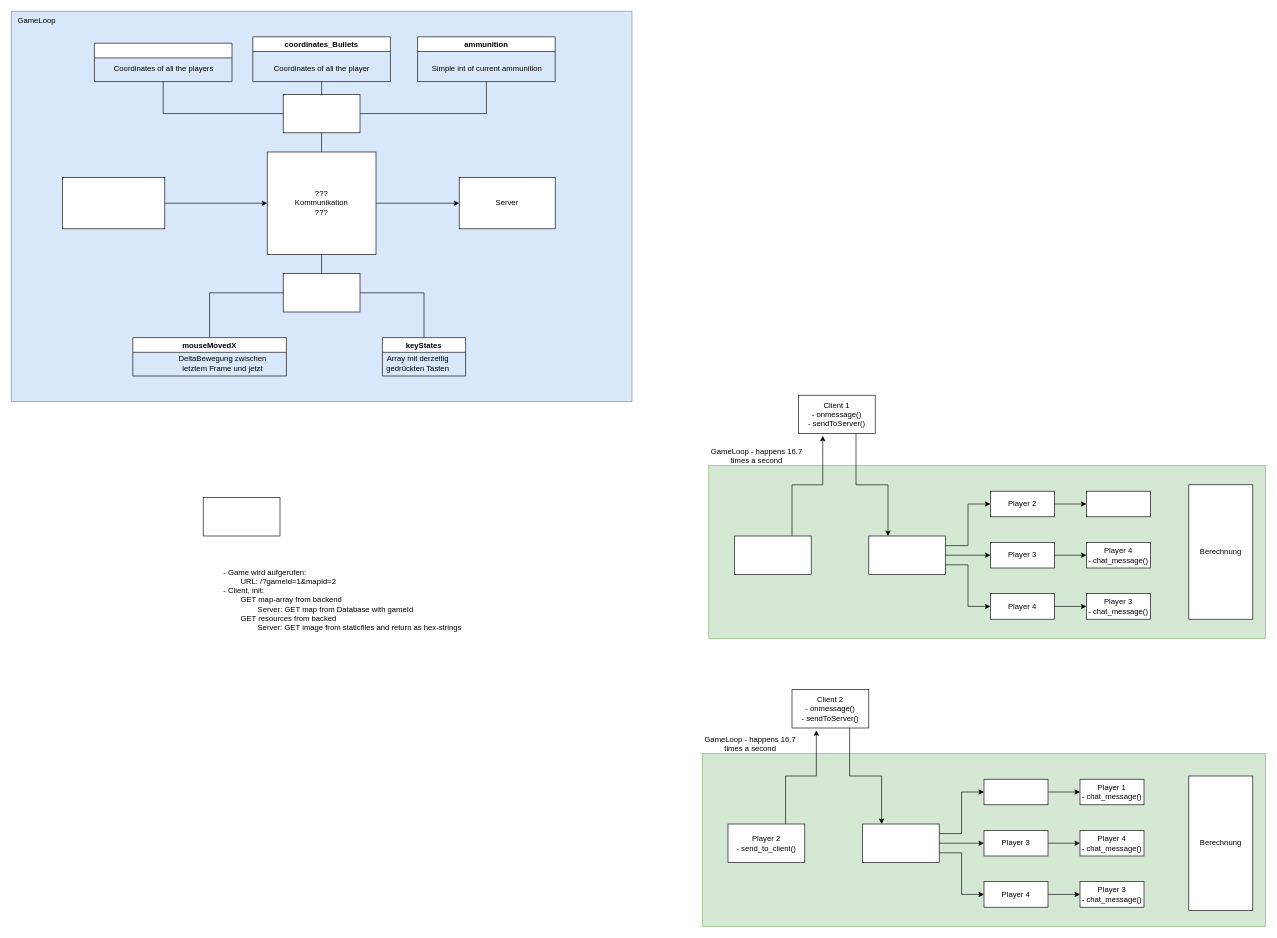
This 1277x938 diagram has some shape labels left out. Each missing label, with the box of its shape:
Client: (62, 177, 165, 229)
coordinates_Players: (94, 43, 232, 82)
Daten Client -> Server: (283, 273, 360, 312)
Daten Server -> Client: (283, 94, 360, 133)
Init: (203, 497, 280, 536)
Player 1: (983, 779, 1048, 805)
Player 1 - receive(): (868, 535, 946, 574)
Player 1 - send_to_client(): (734, 535, 811, 574)
Player 2 - chat_message(): (1086, 491, 1150, 517)
Player 2 - receive(): (862, 823, 939, 862)
